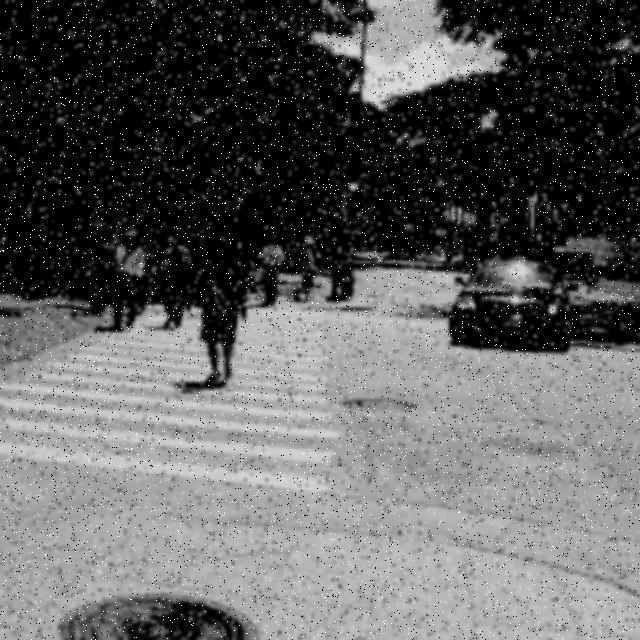crosswalk: (0, 296, 338, 488)
